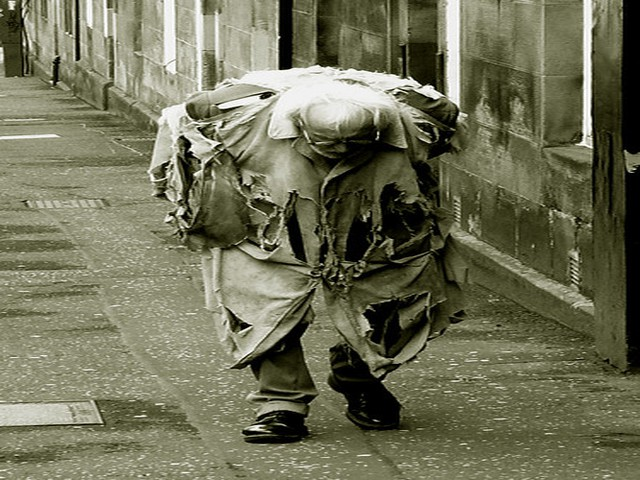Person: (147, 47, 473, 425)
